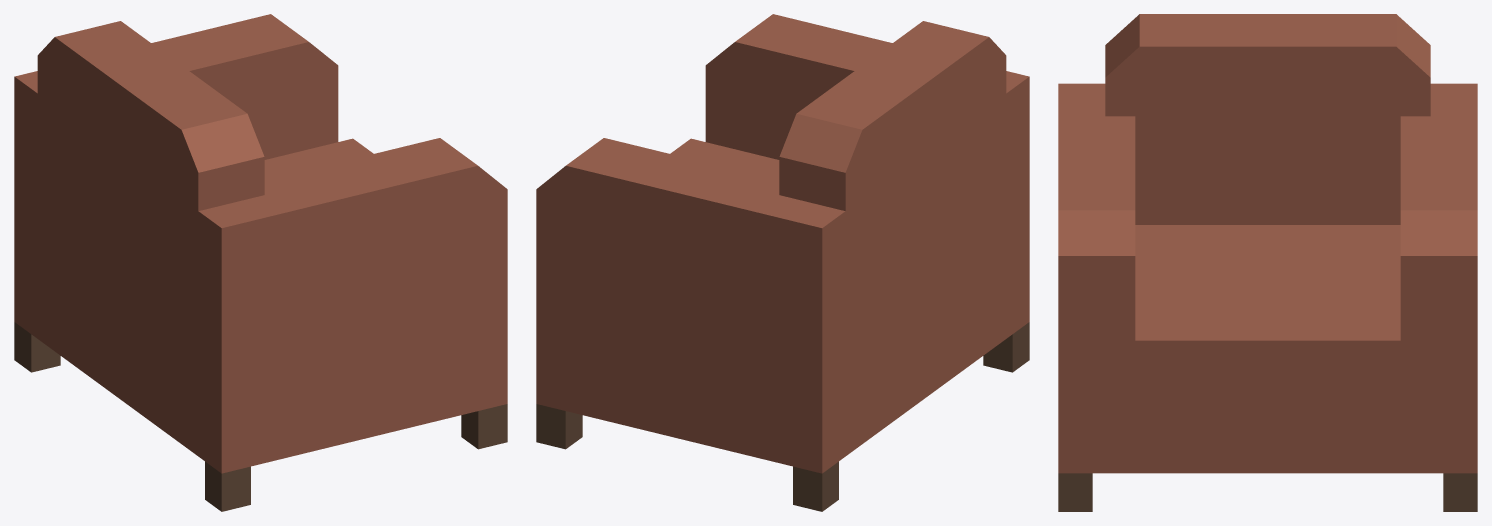
File: armchair.dae
3 views of the same model, side by side, from view 1: azimuth 30°, elevation 25°; view 2: azimuth 150°, elevation 25°; view 3: azimuth 270°, elevation 25° (orthographic).
Visible parts, largest first — view 1: armchair; view 2: armchair; view 3: armchair.
Boxes of the visible parts, x1,y1,x2,y2 form: armchair: (14, 14, 507, 511); armchair: (536, 14, 1029, 511); armchair: (1058, 14, 1477, 511).
Bounding box in the file's own units: 0.7665 × 0.9161 × 0.86.
